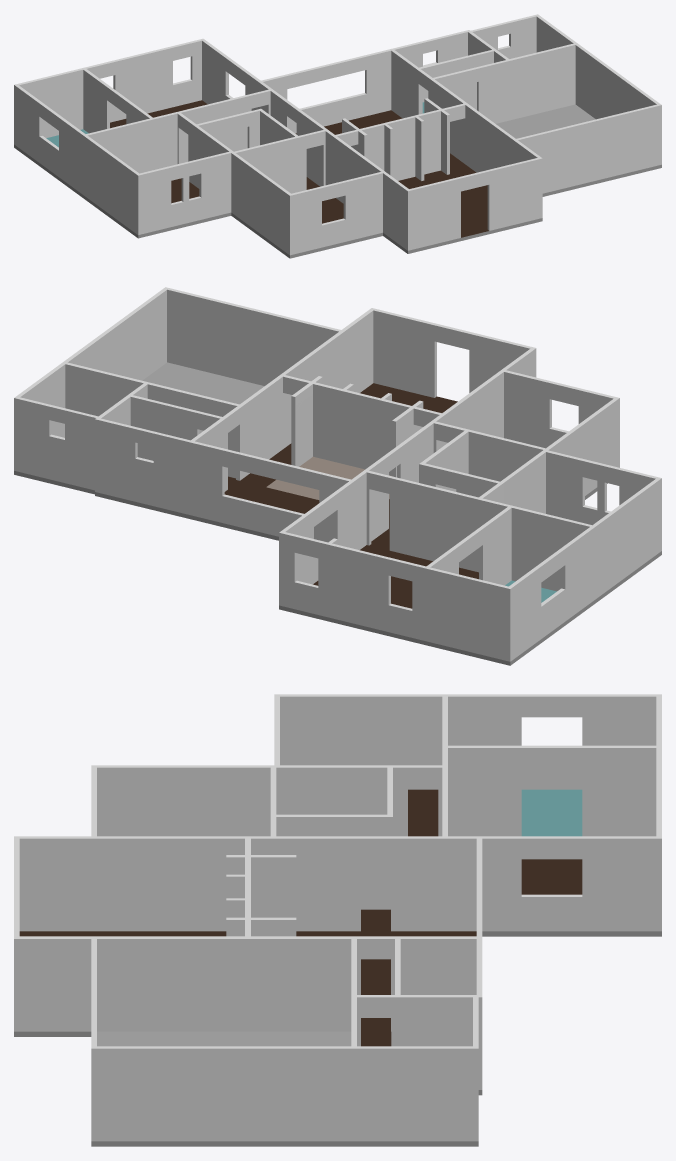
The model's file is House.fbx.
3 views of the same model, one above another, from view 1: azimuth 30°, elevation 25°; view 2: azimuth 150°, elevation 25°; view 3: azimuth 270°, elevation 25° (orthographic). The views are drawn at different scales.
Parts seen in each view (by area): view 1: CompleteHouse; view 2: CompleteHouse; view 3: CompleteHouse.
Part boxes in pixels (x1,y1,x2,y2): CompleteHouse: (14,14,661,258); CompleteHouse: (14,287,661,665); CompleteHouse: (14,694,661,1146).
Size of the model in its own units: 22.08 by 2.85 by 17.07.
